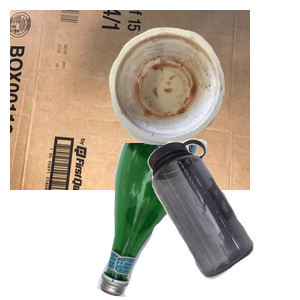cardboard: (10, 10, 250, 190)
glass: (93, 143, 284, 300)
plastic: (145, 136, 300, 300)
trash: (107, 25, 300, 162)
